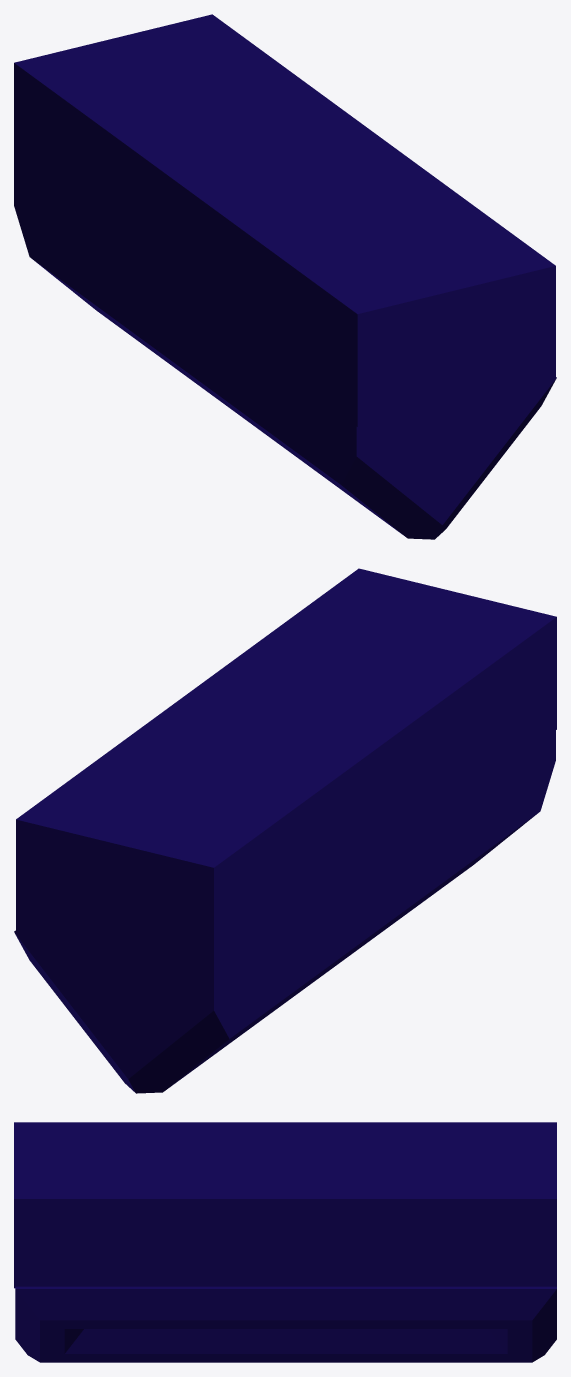
Rendered from laser.000.fbx.
3 renders of one model, top to bottom at view 1: azimuth 30°, elevation 25°; view 2: azimuth 150°, elevation 25°; view 3: azimuth 270°, elevation 25°, orthographic. The views are drawn at different scales.
Visible parts, largest first — view 1: laser.000; view 2: laser.000; view 3: laser.000.
Boxes of the visible parts, x1=… form: laser.000: x1=14, y1=14, x2=556, y2=539; laser.000: x1=14, y1=568, x2=556, y2=1093; laser.000: x1=14, y1=1122, x2=556, y2=1362.
Size of the model in its own units: 3.76 by 11.18 by 4.54.
